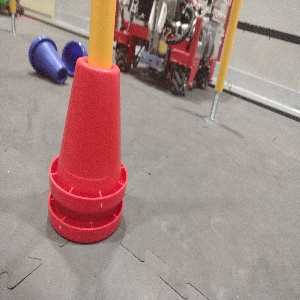Blue_1: (26, 33, 67, 85), (61, 41, 87, 74)
Red_2: (47, 53, 128, 246)
